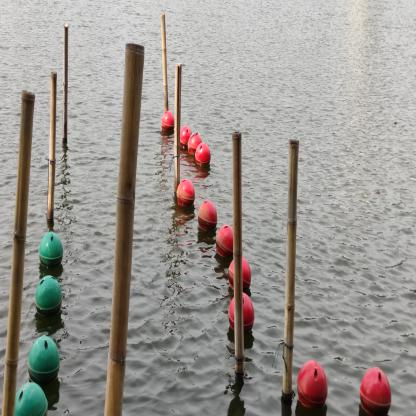green_buoy: (26, 334, 61, 382), (34, 274, 63, 316), (14, 382, 50, 415), (38, 230, 64, 270)
red_buoy: (359, 365, 394, 415), (295, 359, 329, 410), (227, 294, 255, 334), (228, 257, 253, 290), (216, 225, 237, 258), (198, 200, 218, 232), (177, 178, 196, 209), (195, 141, 212, 168), (160, 110, 176, 134), (178, 125, 192, 150), (187, 133, 202, 156)
